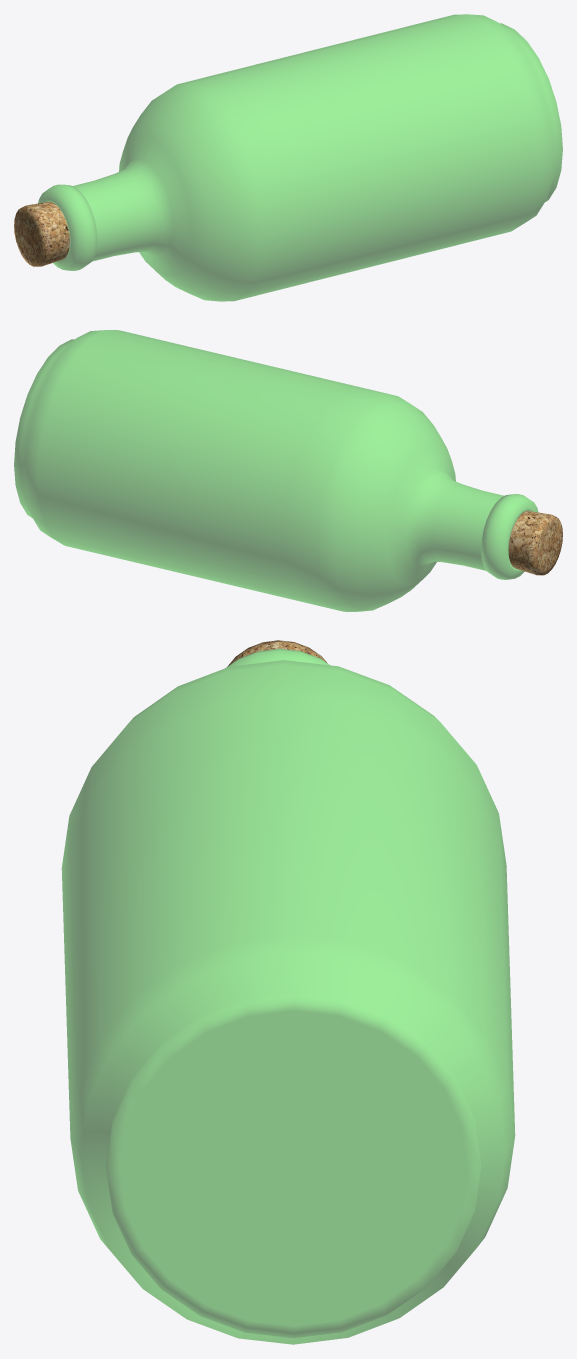
The model's file is Bottle.glb.
3 views of the same model, one above another, from view 1: azimuth 30°, elevation 25°; view 2: azimuth 150°, elevation 25°; view 3: azimuth 270°, elevation 25° (orthographic). The views are drawn at different scales.
Parts seen in each view (by area): view 1: Bottle_LOD0, Cork; view 2: Bottle_LOD0, Cork; view 3: Bottle_LOD0.
Part boxes in pixels (bbox=[...]): Bottle_LOD0: bbox=[38, 14, 562, 301]; Cork: bbox=[14, 202, 69, 266]; Bottle_LOD0: bbox=[14, 330, 538, 611]; Cork: bbox=[508, 511, 562, 575]; Bottle_LOD0: bbox=[61, 648, 515, 1344].
Bounding box in the file's own units: 0.2179 × 0.0861 × 0.0878.
2 materials, 1 textured.
